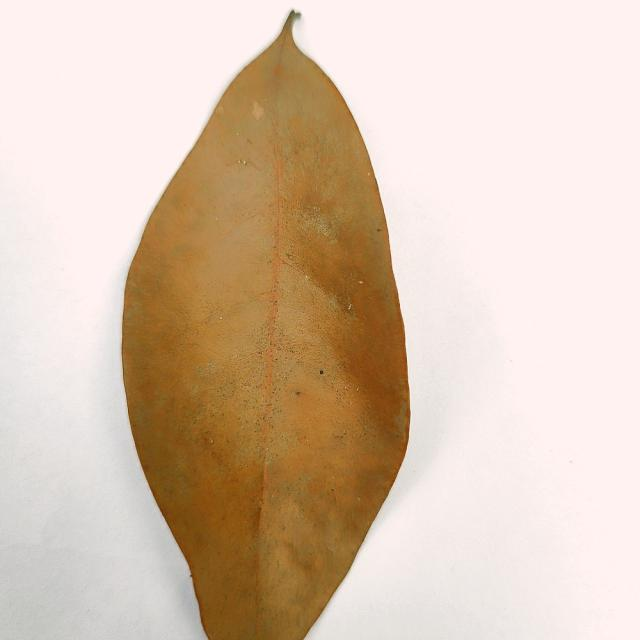Dry_Leaf-Lychee: (119, 12, 412, 639)
